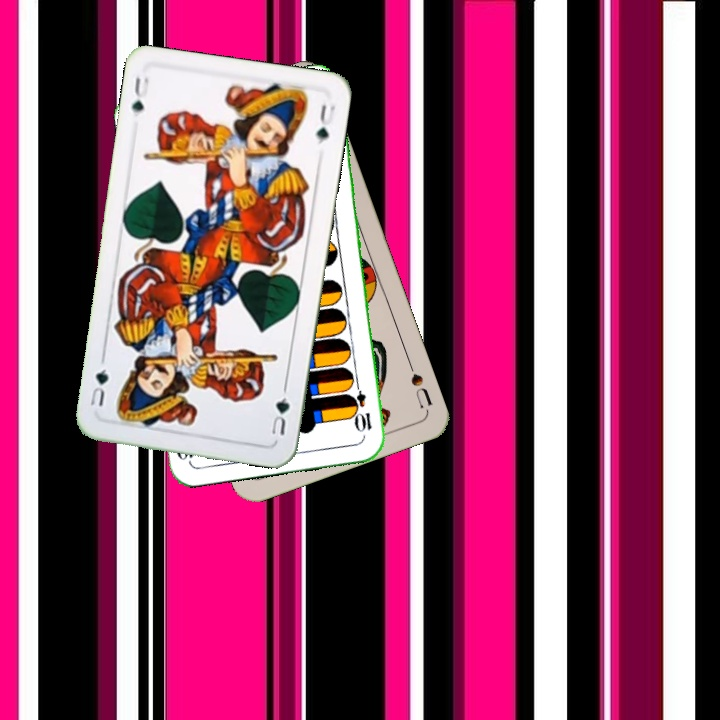E10: (346, 377, 374, 435)
GU: (267, 383, 292, 438), (128, 73, 152, 116)
SU: (403, 356, 435, 411)
